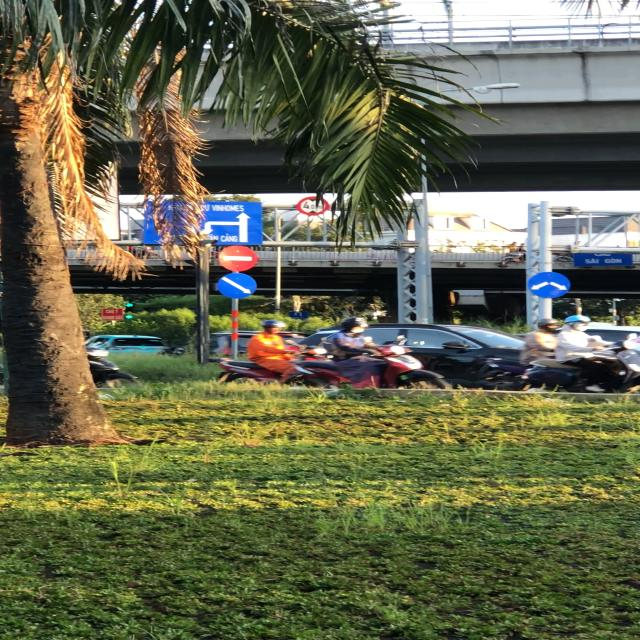Bien bao cam di nguoc chieu: (211, 242, 263, 272)
Bien bao han che chieu cao: (294, 195, 334, 218)
Bien bao huong phai di vong chuong ngai vat: (213, 270, 263, 302), (527, 269, 575, 301)
